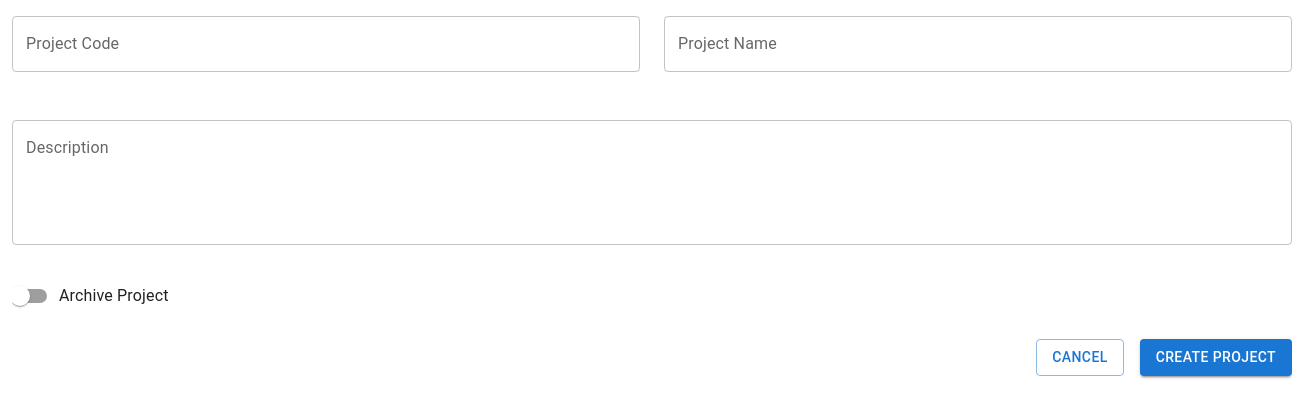
ProjectForm Component › validates project name length
Type "ab" into the field labelled "Project Name". click: (978, 44)
box: [664, 16, 1292, 72]
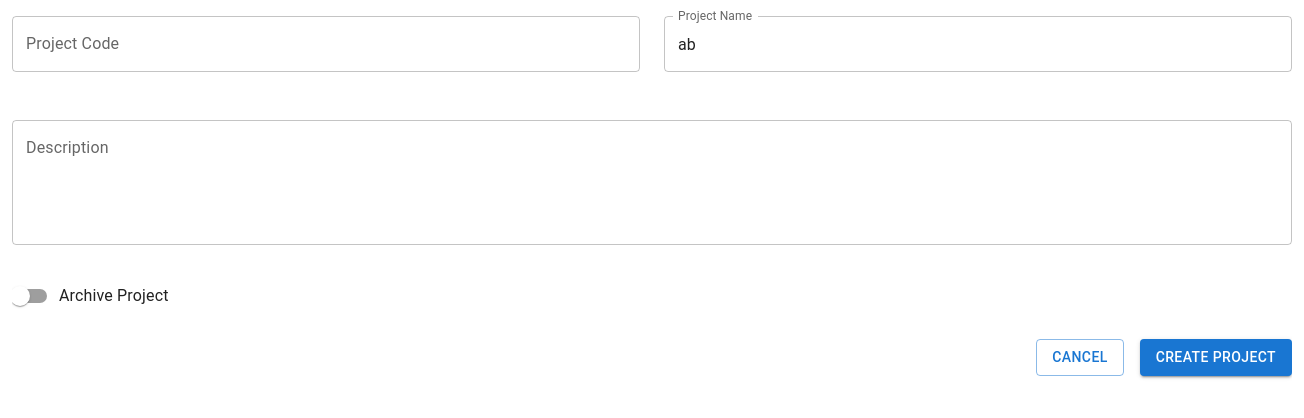
Click the button "Create Project". click: (1216, 357)
box: [1140, 339, 1292, 376]
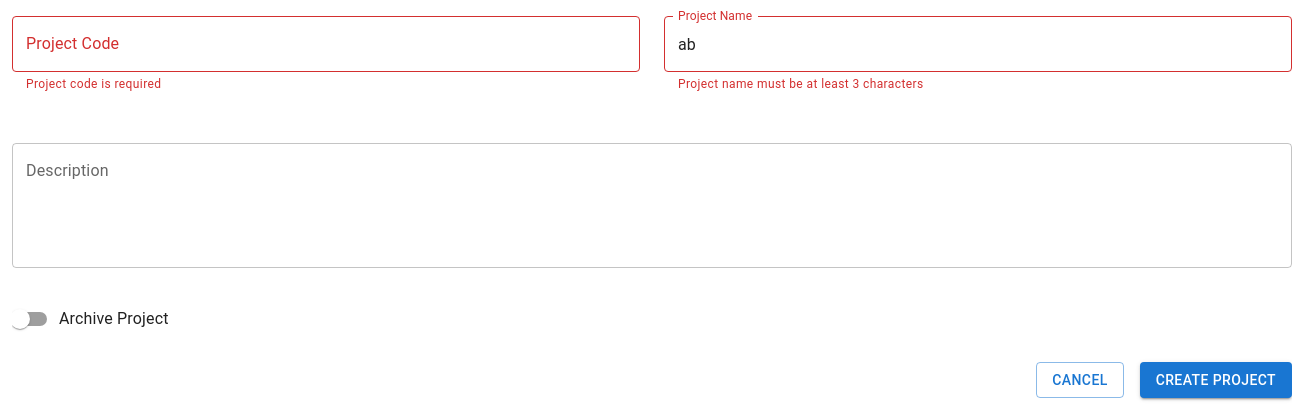
expect the text "Project name must be at least 3 characters" is shown: met, box [678, 77, 924, 91]
